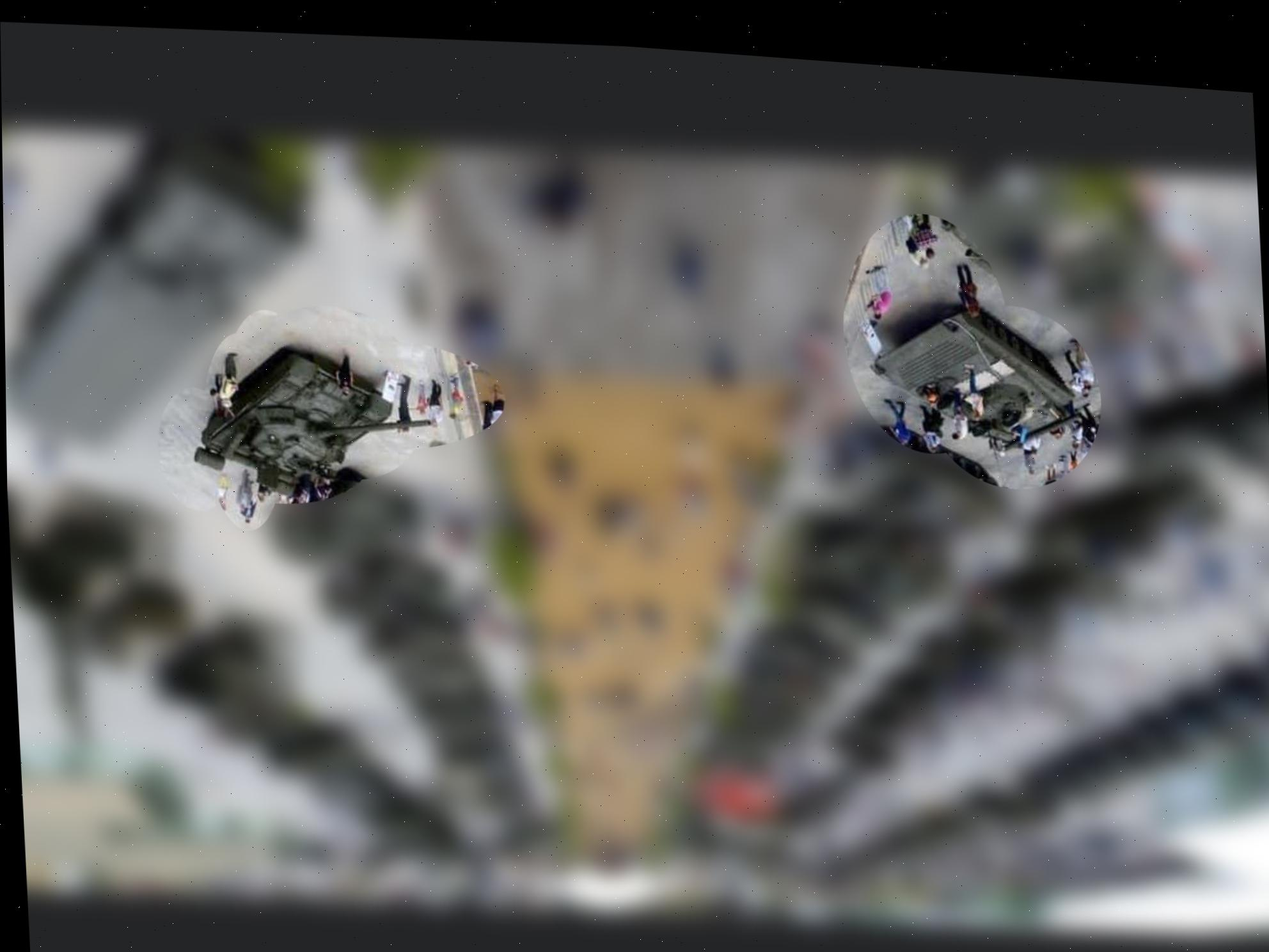armored_car: (863, 290, 1091, 469)
tank: (182, 326, 439, 508)
